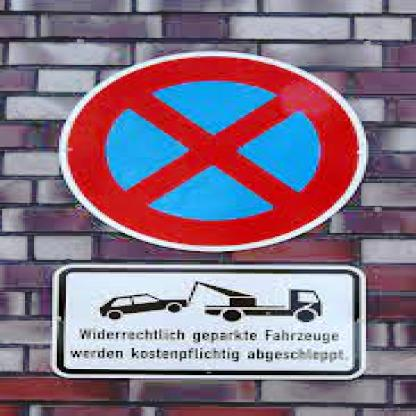No stopping: (54, 43, 365, 251)
